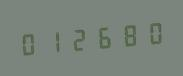eight: (114, 18, 137, 51)
one: (41, 24, 64, 58)
six: (90, 20, 113, 54)
two: (66, 22, 89, 56)
zero: (17, 26, 40, 60), (138, 16, 161, 49)
